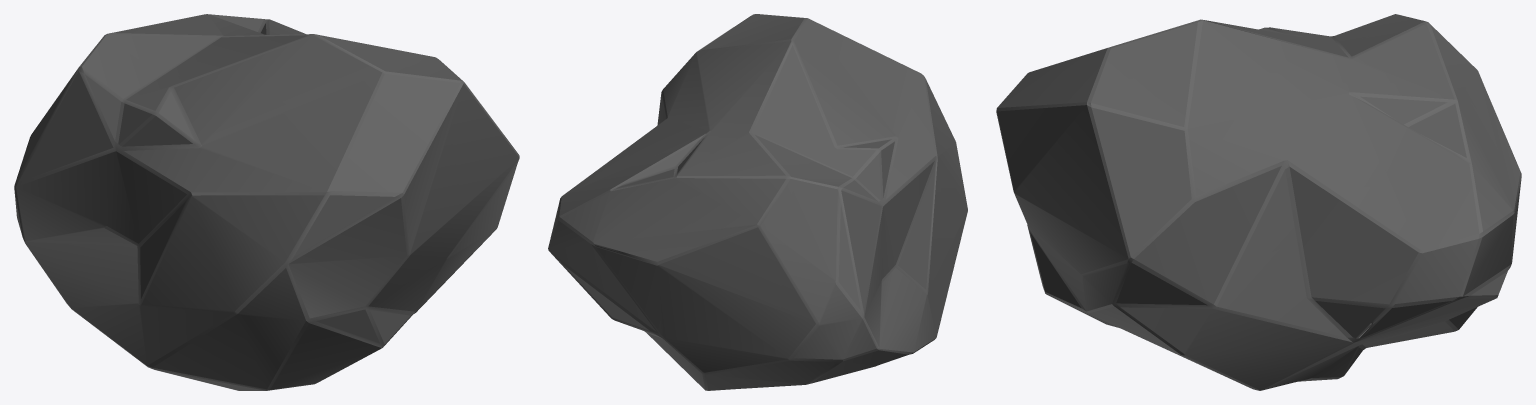
The model's file is Rock01.FBX.
3 views of the same model, side by side, from view 1: azimuth 30°, elevation 25°; view 2: azimuth 150°, elevation 25°; view 3: azimuth 270°, elevation 25° (orthographic). The views are drawn at different scales.
Visible parts, largest first — view 1: Rock_big_03; view 2: Rock_big_03; view 3: Rock_big_03.
Part boxes in pixels (x1=…): Rock_big_03: x1=14, y1=14, x2=519, y2=390; Rock_big_03: x1=548, y1=14, x2=967, y2=390; Rock_big_03: x1=996, y1=14, x2=1521, y2=390.
Size of the model in its own units: 849 by 987 by 722.
